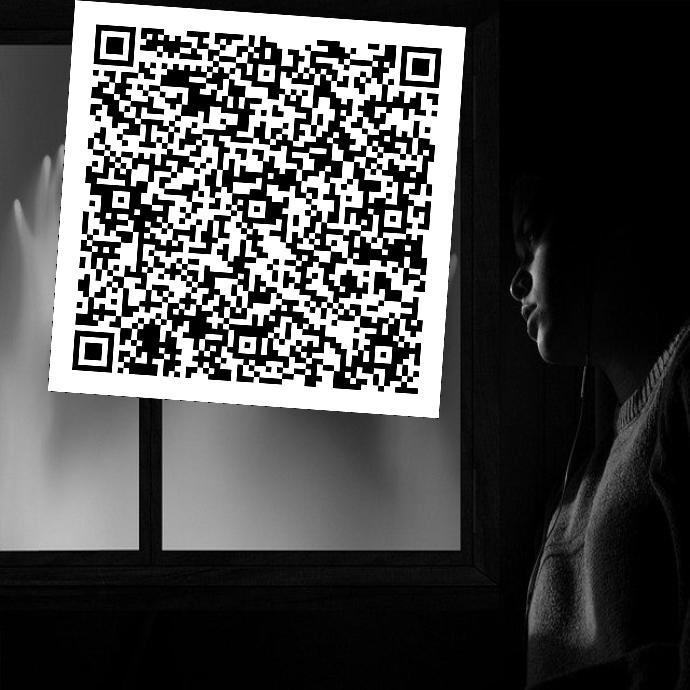qr_code: (48, 1, 465, 418)
